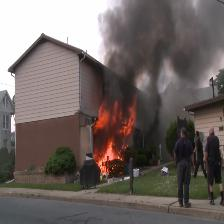fire: (87, 89, 139, 180)
smoke: (95, 0, 223, 107)
